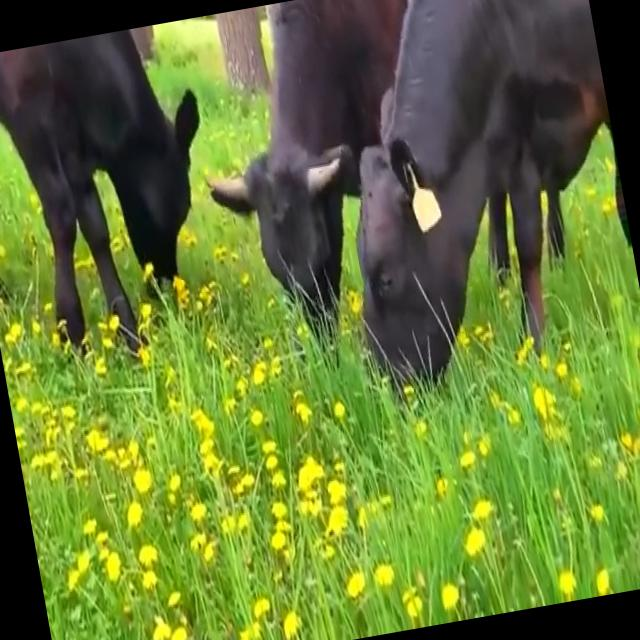cow: (208, 0, 610, 376), (0, 30, 199, 347)
